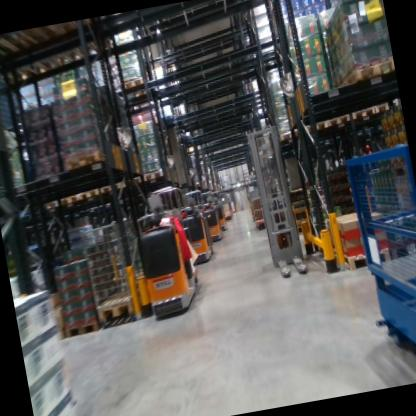pallet_truck: (129, 182, 205, 324), (173, 184, 217, 267), (193, 178, 226, 253), (207, 186, 228, 241)
stillage: (342, 138, 416, 381), (35, 17, 121, 76), (3, 23, 83, 83), (332, 52, 399, 102), (0, 30, 49, 91), (48, 315, 102, 343), (92, 290, 142, 320), (62, 141, 108, 172), (117, 69, 152, 107), (344, 101, 378, 124), (115, 167, 143, 192), (277, 119, 304, 144), (56, 187, 81, 210), (35, 192, 57, 216), (374, 98, 400, 118), (325, 112, 352, 130), (77, 184, 102, 200), (98, 181, 122, 197), (140, 168, 169, 181)
